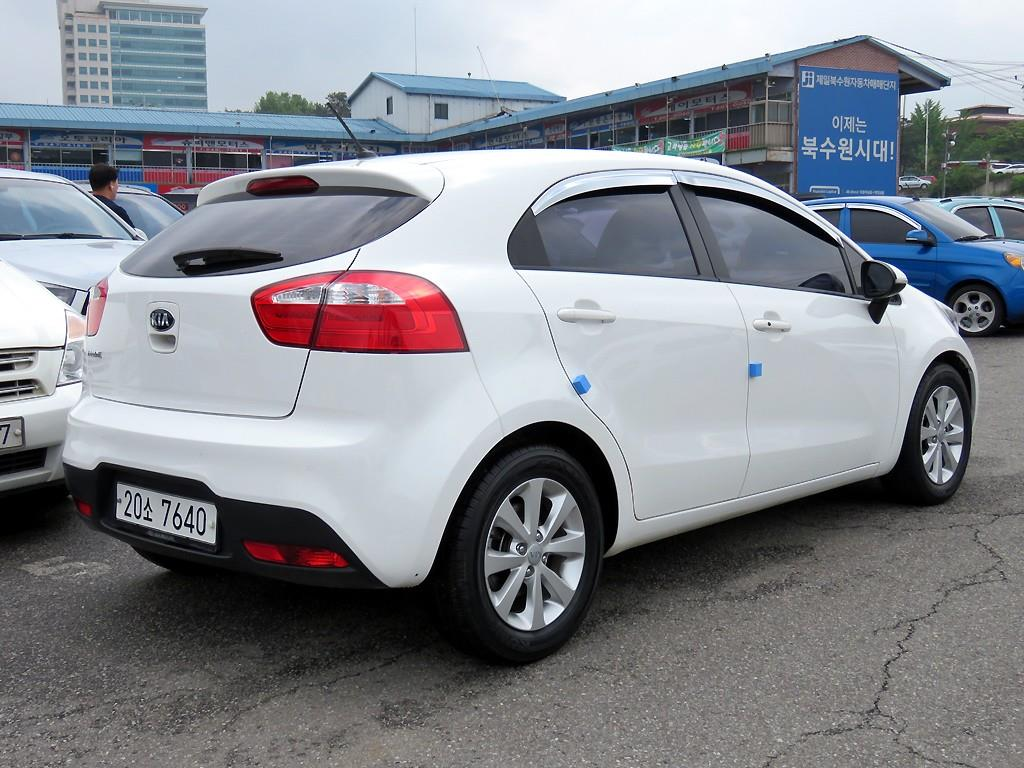plate: (115, 483, 216, 544)
